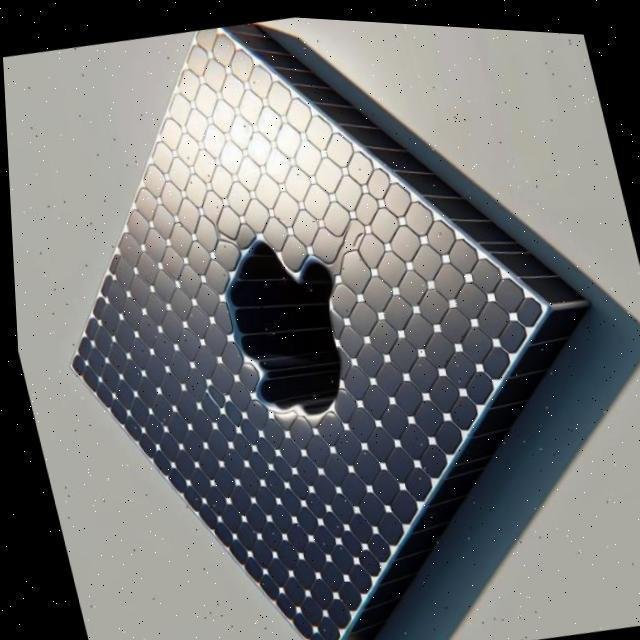Anomaly Solar Panel: (68, 25, 543, 640)
Structural Damage: (213, 232, 344, 414)
